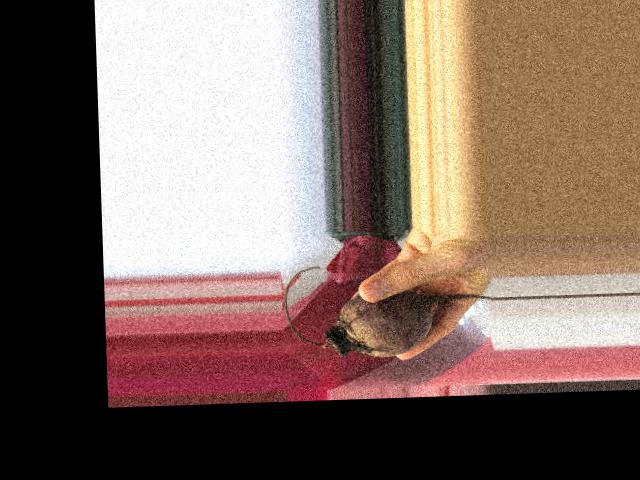beet: (282, 260, 494, 360)
